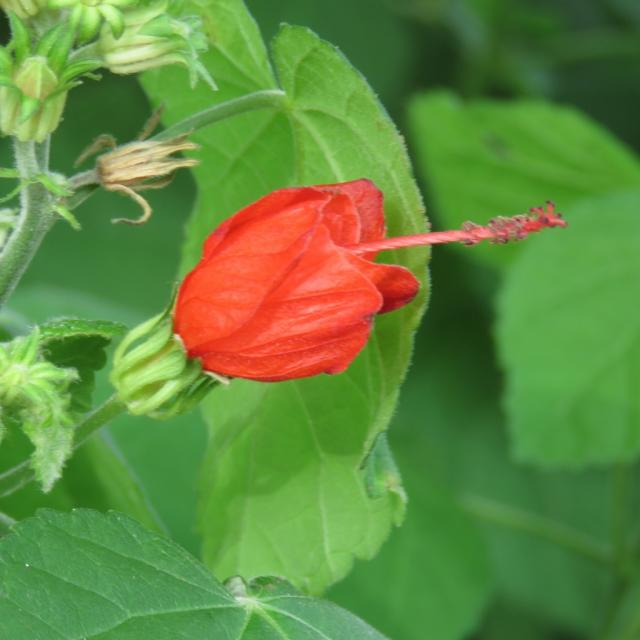Flower: (104, 177, 574, 422)
